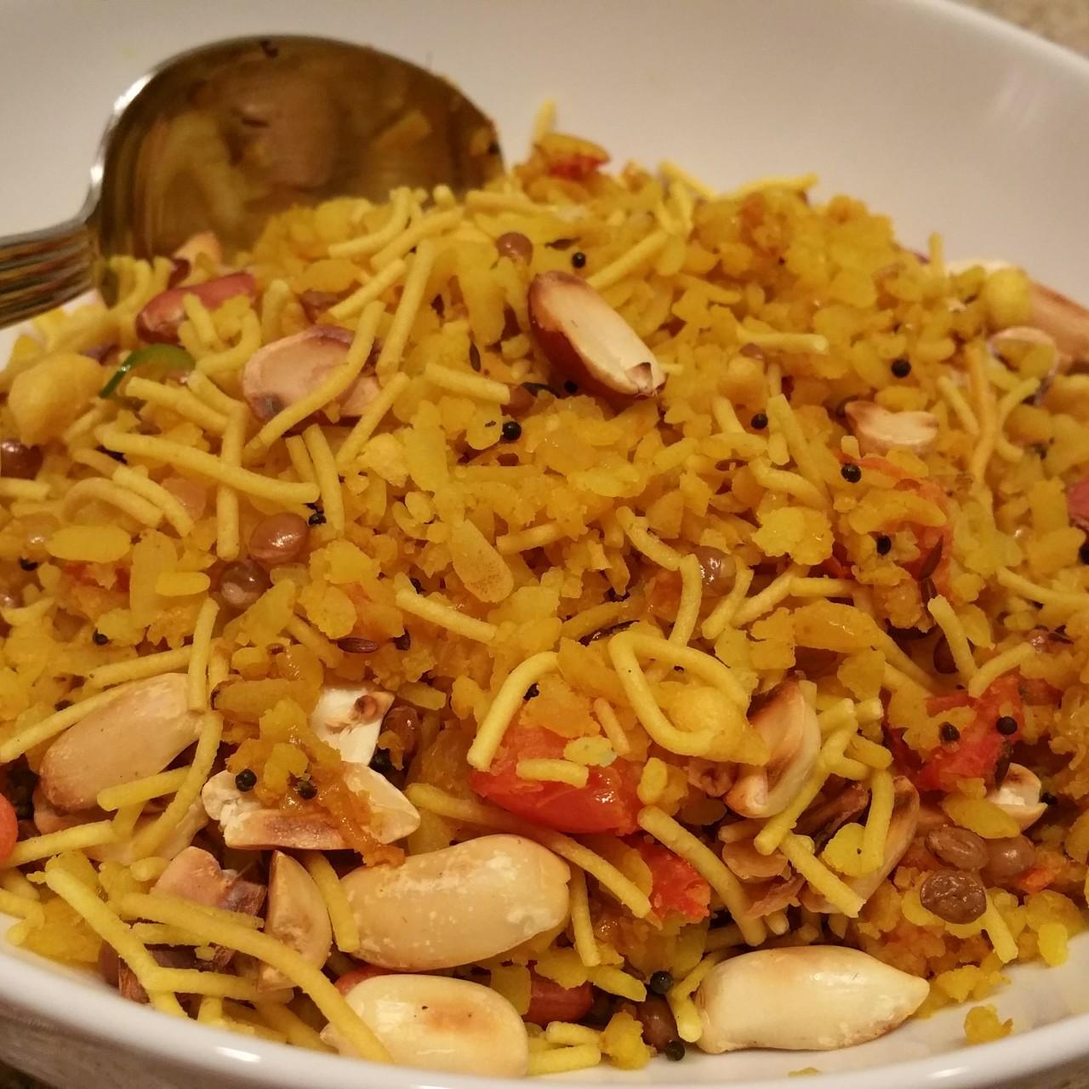Poha: (0, 98, 1089, 1080)
